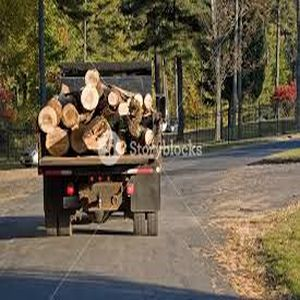log: (83, 116, 113, 151), (42, 126, 69, 157), (36, 103, 59, 134), (69, 124, 91, 156), (59, 101, 82, 128), (79, 85, 101, 112), (81, 68, 106, 89), (138, 125, 155, 148), (116, 100, 132, 120), (107, 89, 118, 109)
